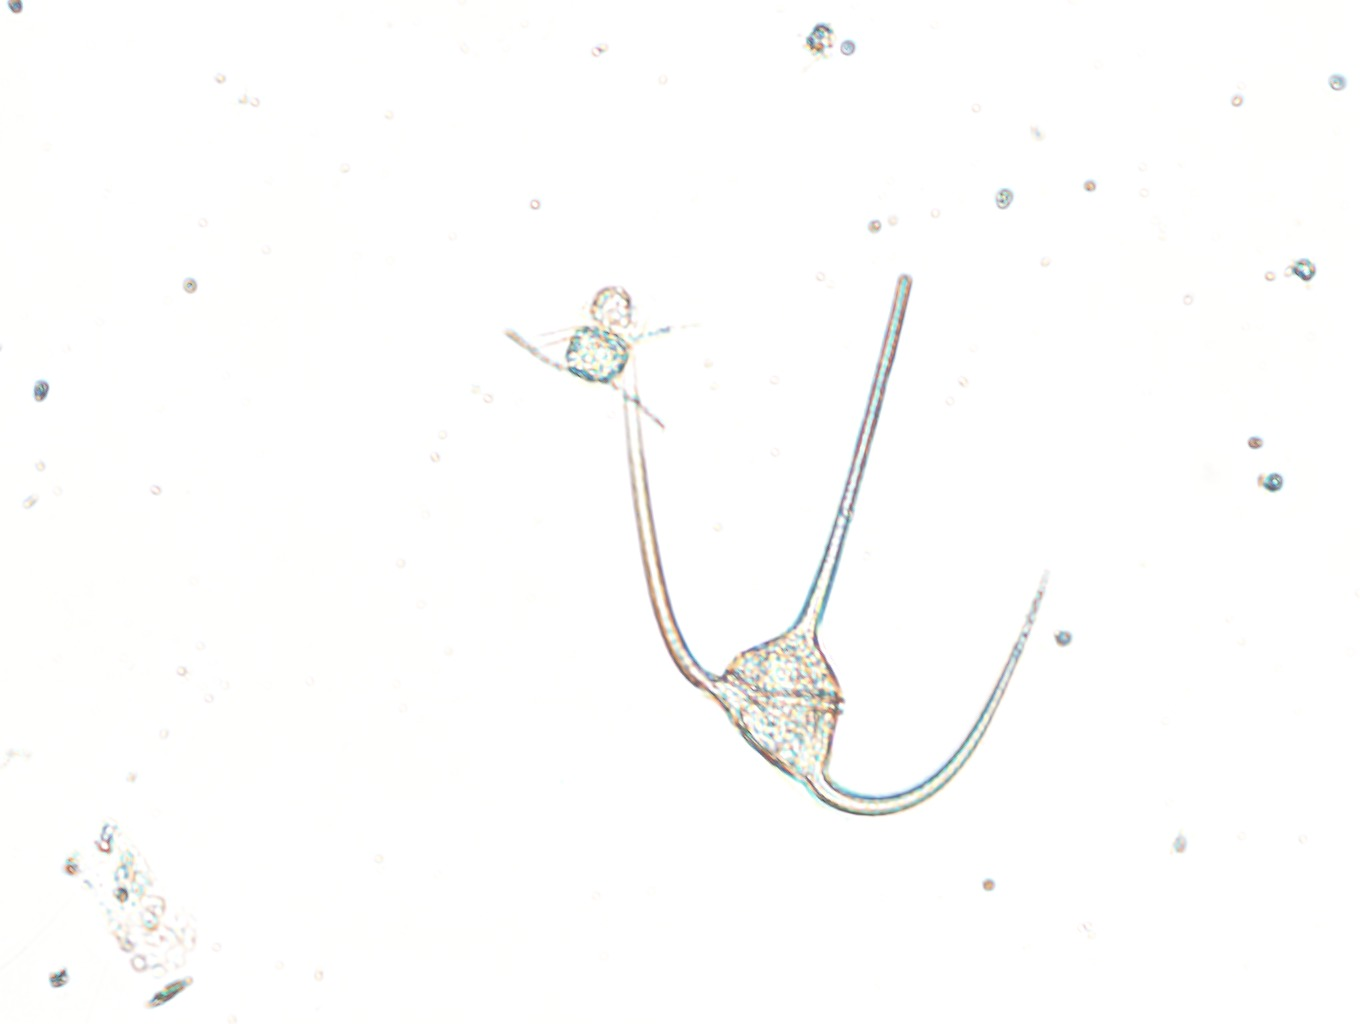ceratium trichoceros: (625, 272, 1051, 812)
chaetoceros: (502, 283, 703, 430)
